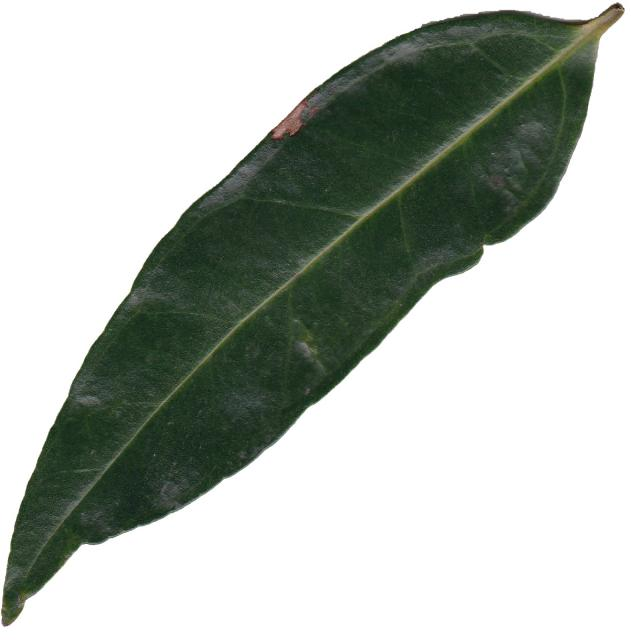Medicinal-Rose Apple: (2, 3, 627, 627)
